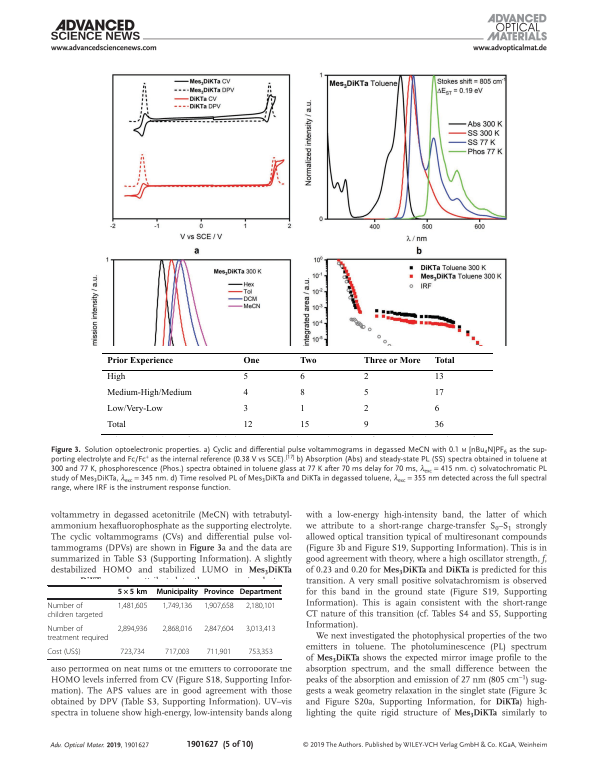borderless: (101, 351, 493, 434), (46, 584, 282, 659)
cell: (47, 624, 109, 642), (47, 601, 104, 619), (106, 388, 192, 398), (106, 355, 173, 365), (362, 355, 421, 365), (106, 404, 163, 414), (155, 588, 199, 597), (239, 588, 282, 597), (161, 601, 193, 611), (203, 601, 235, 611), (47, 647, 82, 656), (117, 601, 148, 611), (245, 601, 276, 611), (203, 588, 235, 597), (161, 624, 193, 633), (203, 624, 235, 633), (117, 588, 148, 597), (117, 624, 148, 633), (245, 624, 276, 633), (119, 647, 146, 656), (247, 647, 274, 656), (164, 647, 190, 656), (206, 647, 232, 656), (433, 355, 455, 365), (106, 372, 126, 382), (106, 420, 126, 430), (242, 355, 260, 365), (299, 355, 317, 365), (433, 372, 444, 382), (433, 388, 444, 398), (242, 420, 253, 430), (299, 420, 310, 430), (433, 420, 444, 430), (362, 372, 369, 382), (362, 388, 369, 398), (362, 404, 369, 414), (433, 404, 440, 414), (362, 420, 369, 430), (242, 372, 248, 382), (299, 372, 305, 382), (242, 388, 248, 398), (299, 388, 305, 398), (242, 404, 248, 414), (299, 404, 305, 414)
